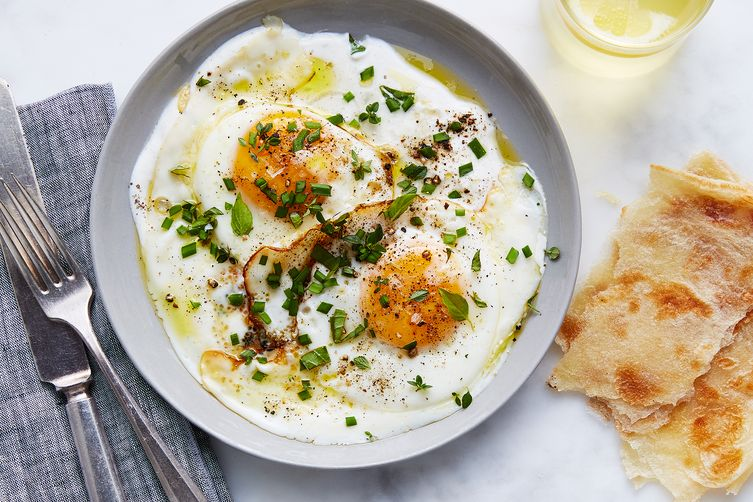fried egg: (165, 39, 443, 255), (326, 180, 532, 392)
